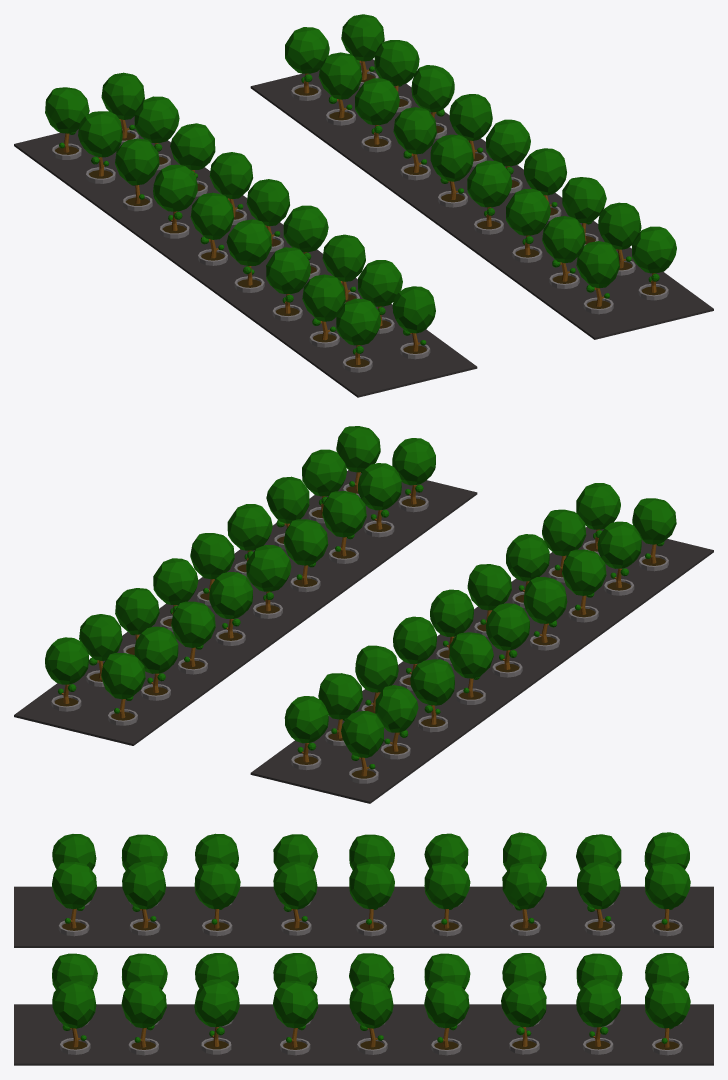
Rendered from taemplate_b_005.fbx.
3 views of the same model, one above another, from view 1: azimuth 30°, elevation 25°; view 2: azimuth 150°, elevation 25°; view 3: azimuth 270°, elevation 25° (orthographic).
Visible parts, largest first — view 1: roadside.010, roadside.009, tree.049, tree.045, tree.038, tree.056, tree.039, tree.058, tree.033, tree.064, tree.041, tree.043 (+26 smaller); view 2: roadside.010, roadside.009, tree.035, tree.067, tree.043, tree.050, tree.062, tree.054, tree.047, tree.066, tree.052, tree.041 (+26 smaller); view 3: roadside.009, roadside.010, tree.055, tree.065, tree.063, tree.044, tree.042, tree.034, tree.037, tree.067, tree.040, tree.048 (+26 smaller).
Part boxes in pixels (x1=…): roadside.010: x1=250, y1=59, x2=713, y2=339; roadside.009: x1=14, y1=116, x2=477, y2=397; tree.049: x1=78, y1=111, x2=122, y2=183; tree.045: x1=153, y1=164, x2=197, y2=238; tree.038: x1=632, y1=226, x2=676, y2=300; tree.056: x1=506, y1=189, x2=550, y2=262; tree.039: x1=266, y1=247, x2=310, y2=321; tree.058: x1=467, y1=160, x2=512, y2=234; tree.033: x1=336, y1=298, x2=381, y2=372; tree.064: x1=355, y1=78, x2=399, y2=152; tree.041: x1=226, y1=219, x2=271, y2=292; tree.043: x1=190, y1=192, x2=233, y2=265; roadside.010: x1=14, y1=470, x2=477, y2=745; roadside.009: x1=250, y1=527, x2=713, y2=803; tree.035: x1=597, y1=521, x2=641, y2=595; tree.067: x1=45, y1=637, x2=88, y2=711; tree.043: x1=486, y1=603, x2=529, y2=677; tree.050: x1=284, y1=696, x2=328, y2=770; tree.062: x1=209, y1=572, x2=252, y2=645; tree.054: x1=358, y1=463, x2=401, y2=537; tree.047: x1=410, y1=659, x2=454, y2=732; tree.066: x1=134, y1=626, x2=178, y2=700; tree.052: x1=392, y1=438, x2=435, y2=512; tree.041: x1=523, y1=577, x2=567, y2=650; roadside.009: x1=14, y1=886, x2=713, y2=947; roadside.010: x1=14, y1=1004, x2=713, y2=1065; tree.055: x1=194, y1=979, x2=239, y2=1054; tree.065: x1=576, y1=979, x2=620, y2=1054; tree.063: x1=501, y1=980, x2=546, y2=1054; tree.044: x1=424, y1=862, x2=470, y2=936; tree.042: x1=349, y1=862, x2=394, y2=936; tree.034: x1=122, y1=861, x2=165, y2=935; tree.037: x1=194, y1=862, x2=240, y2=936; tree.067: x1=645, y1=981, x2=690, y2=1055; tree.040: x1=273, y1=861, x2=317, y2=935; tree.048: x1=577, y1=861, x2=620, y2=935.
Bounding box in the file's own units: 891 × 158 × 1489.
